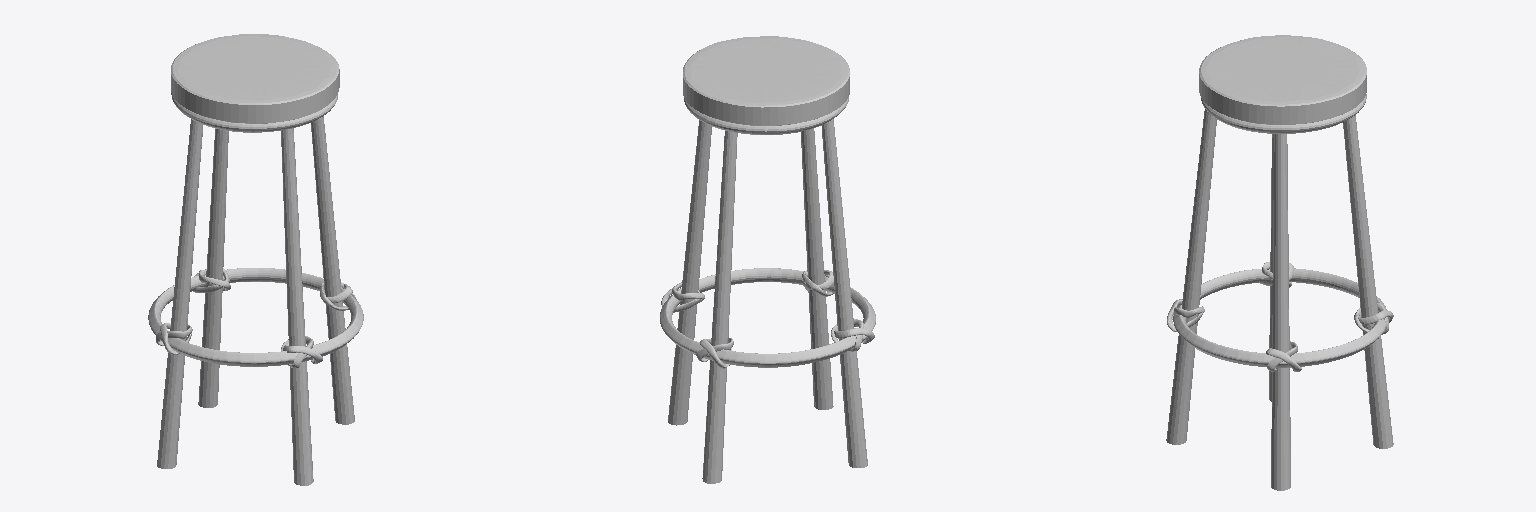
Rendered from chair.obj.
3 renders of one model, left to right at view 1: azimuth 30°, elevation 25°; view 2: azimuth 150°, elevation 25°; view 3: azimuth 270°, elevation 25°, orthographic.
Parts seen in each view (by area): view 1: Legs_Untitled.001, Seat_Untitled, Frame_Untitled.002, Rubber_Tie_Untitled.003; view 2: Legs_Untitled.001, Seat_Untitled, Frame_Untitled.002, Rubber_Tie_Untitled.003; view 3: Legs_Untitled.001, Seat_Untitled, Frame_Untitled.002, Rubber_Tie_Untitled.003.
Boxes of the visible parts, x1=… form: Legs_Untitled.001: x1=157, y1=116, x2=354, y2=485; Seat_Untitled: x1=171, y1=34, x2=339, y2=123; Frame_Untitled.002: x1=148, y1=93, x2=363, y2=366; Rubber_Tie_Untitled.003: x1=156, y1=268, x2=356, y2=367; Legs_Untitled.001: x1=668, y1=119, x2=867, y2=483; Seat_Untitled: x1=683, y1=36, x2=849, y2=125; Frame_Untitled.002: x1=660, y1=97, x2=875, y2=367; Rubber_Tie_Untitled.003: x1=661, y1=270, x2=874, y2=368; Legs_Untitled.001: x1=1166, y1=109, x2=1393, y2=490; Seat_Untitled: x1=1199, y1=35, x2=1366, y2=124; Frame_Untitled.002: x1=1173, y1=94, x2=1386, y2=367; Rubber_Tie_Untitled.003: x1=1167, y1=262, x2=1393, y2=371.
Size of the model in its own units: 0.0071 by 0.0128 by 0.0071.